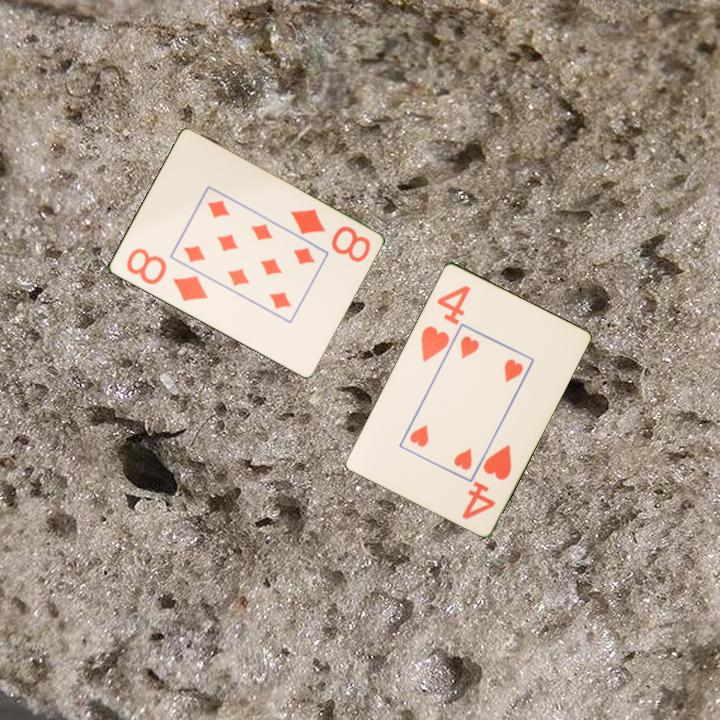4h: (417, 281, 474, 364), (458, 440, 515, 522)
8d: (122, 245, 211, 304), (286, 205, 373, 265)
